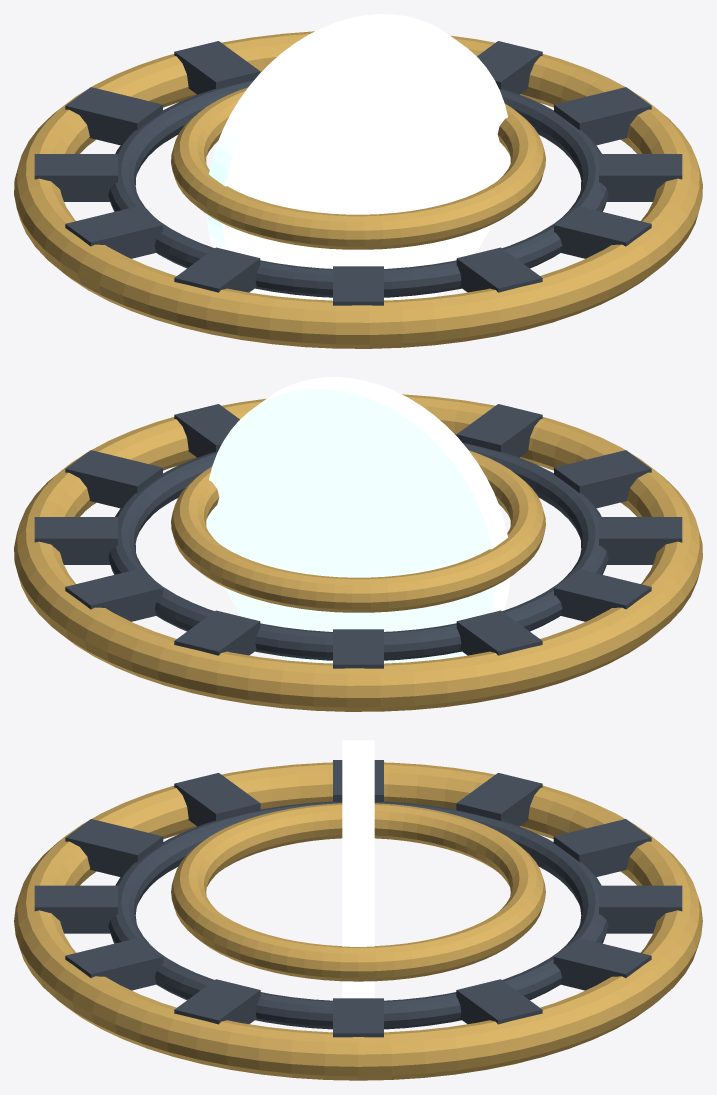
Rendered from arc_reactor.glb.
3 views of the same model, one above another, from view 1: azimuth 30°, elevation 25°; view 2: azimuth 150°, elevation 25°; view 3: azimuth 270°, elevation 25° (orthographic).
Parts seen in each view (by area): view 1: Core, OuterRing, CoreRing, InnerRing, Segment11, Segment05, Segment00, Segment04, Segment10, Segment06, Segment03, Segment09 (+3 smaller); view 2: Core, OuterRing, CoreRing, InnerRing, Segment01, Segment07, Segment00, Segment08, Segment02, Segment06, Segment09, Segment03 (+3 smaller); view 3: OuterRing, CoreRing, InnerRing, Core, Segment03, Segment09, Segment04, Segment08, Segment02, Segment10, Segment05, Segment07 (+4 smaller).
Boxes of the visible parts, box(x1,y1,x2,y2) form: Core: box(206, 14, 510, 300); OuterRing: box(14, 31, 702, 348); CoreRing: box(171, 87, 545, 249); InnerRing: box(108, 79, 608, 297); Segment11: box(599, 154, 682, 201); Segment05: box(34, 154, 117, 201); Segment00: box(554, 87, 651, 145); Segment04: box(65, 87, 162, 145); Segment10: box(554, 206, 651, 258); Segment06: box(65, 206, 162, 258); Segment03: box(174, 41, 260, 94); Segment09: box(456, 247, 542, 292); Core: box(206, 377, 510, 663); OuterRing: box(14, 394, 702, 711); CoreRing: box(171, 450, 545, 612); InnerRing: box(108, 442, 608, 660); Segment01: box(34, 517, 117, 564); Segment07: box(599, 517, 682, 564); Segment00: box(65, 450, 162, 508); Segment08: box(554, 450, 651, 508); Segment02: box(65, 569, 162, 621); Segment06: box(554, 569, 651, 621); Segment09: box(456, 404, 542, 457); Segment03: box(174, 610, 260, 655); OuterRing: box(14, 762, 702, 1080); CoreRing: box(171, 803, 545, 981); InnerRing: box(108, 801, 608, 1029); Core: box(342, 740, 374, 998); Segment03: box(599, 885, 682, 933); Segment09: box(34, 885, 117, 933); Segment04: box(553, 819, 651, 876); Segment08: box(65, 819, 163, 876); Segment02: box(553, 938, 651, 990); Segment10: box(65, 938, 163, 990); Segment05: box(456, 773, 542, 826); Segment07: box(174, 773, 260, 826).
Size of the model in its own units: 2.15 by 1.04 by 2.15.
